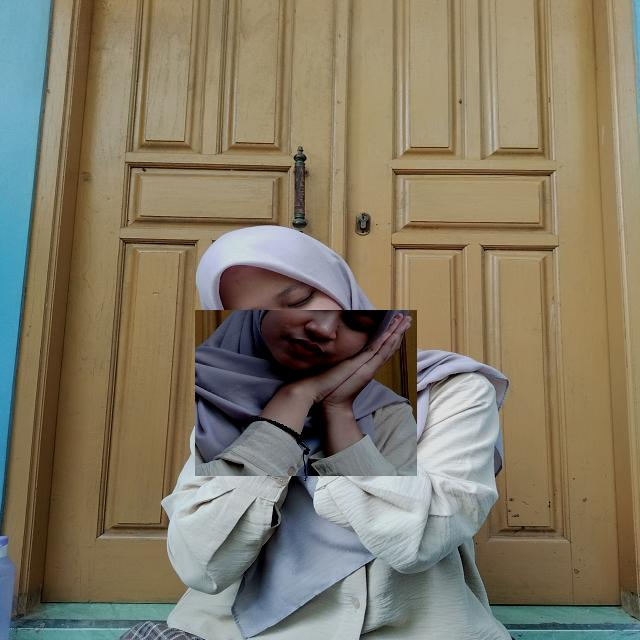tidur: (195, 310, 417, 476)
